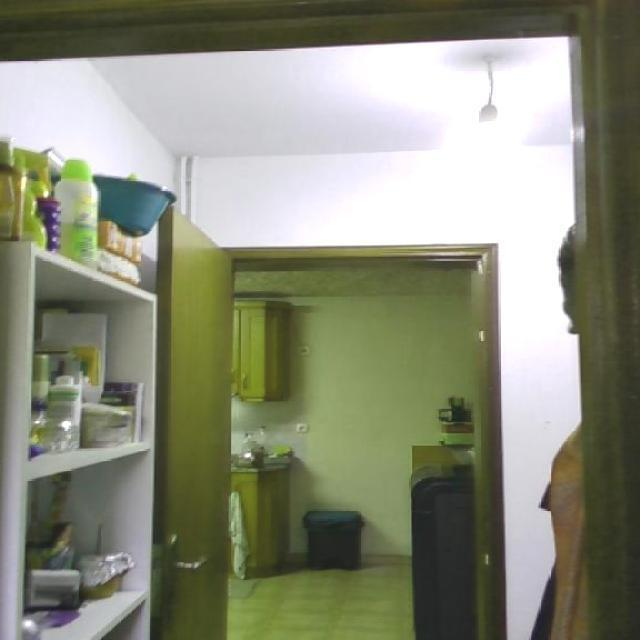door: (145, 193, 246, 640)
